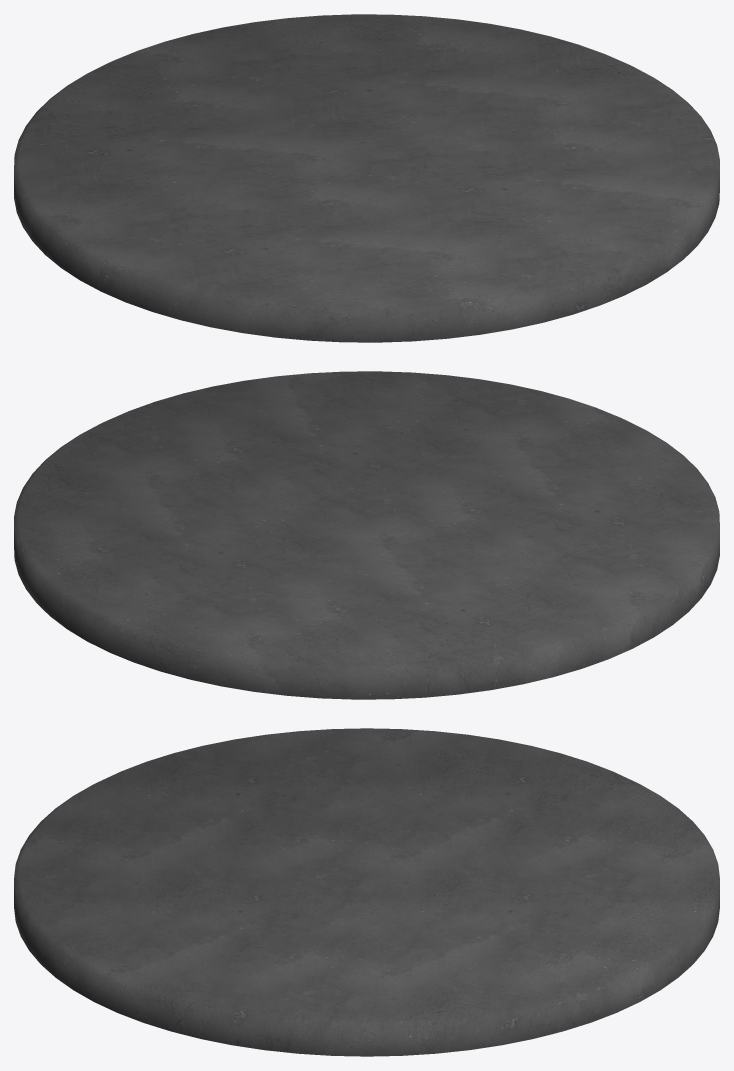
The model's file is base_scenario.glb.
3 renders of one model, top to bottom at view 1: azimuth 30°, elevation 25°; view 2: azimuth 150°, elevation 25°; view 3: azimuth 270°, elevation 25°, orthographic.
Parts seen in each view (by area): view 1: baseScenario; view 2: baseScenario; view 3: baseScenario.
Part boxes in pixels (<box>): baseScenario: <box>14,14,719,342</box>; baseScenario: <box>14,371,719,699</box>; baseScenario: <box>14,728,719,1056</box>.
Bounding box in the file's own units: 19.8 × 0.9955 × 19.8.
1 material, 1 textured.
